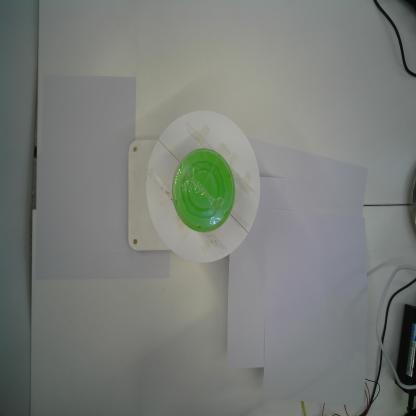Instant Drink: (171, 146, 238, 234)
